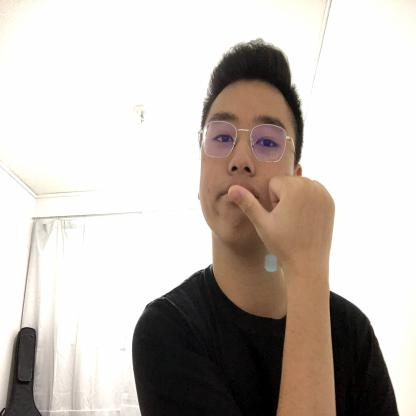right: (227, 175, 336, 269)
